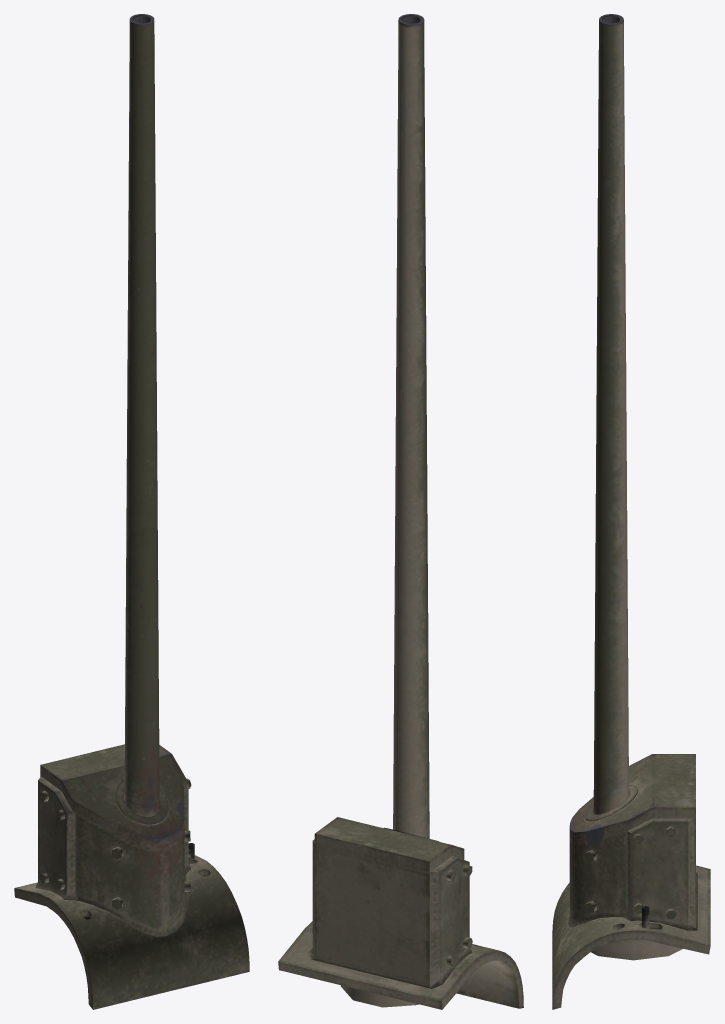
The model's file is Gun_02.glb.
3 renders of one model, left to right at view 1: azimuth 30°, elevation 25°; view 2: azimuth 150°, elevation 25°; view 3: azimuth 270°, elevation 25°, orthographic. The views are drawn at different scales.
Parts seen in each view (by area): view 1: set_0_group_0; view 2: set_0_group_0; view 3: set_0_group_0.
Part boxes in pixels (x1,y1,x2,y2): set_0_group_0: (14,14,249,1009); set_0_group_0: (278,14,523,1009); set_0_group_0: (552,14,710,1009).
Bounding box in the file's own units: 0.5846 × 3.39 × 0.5106.
1 material, 1 textured.
